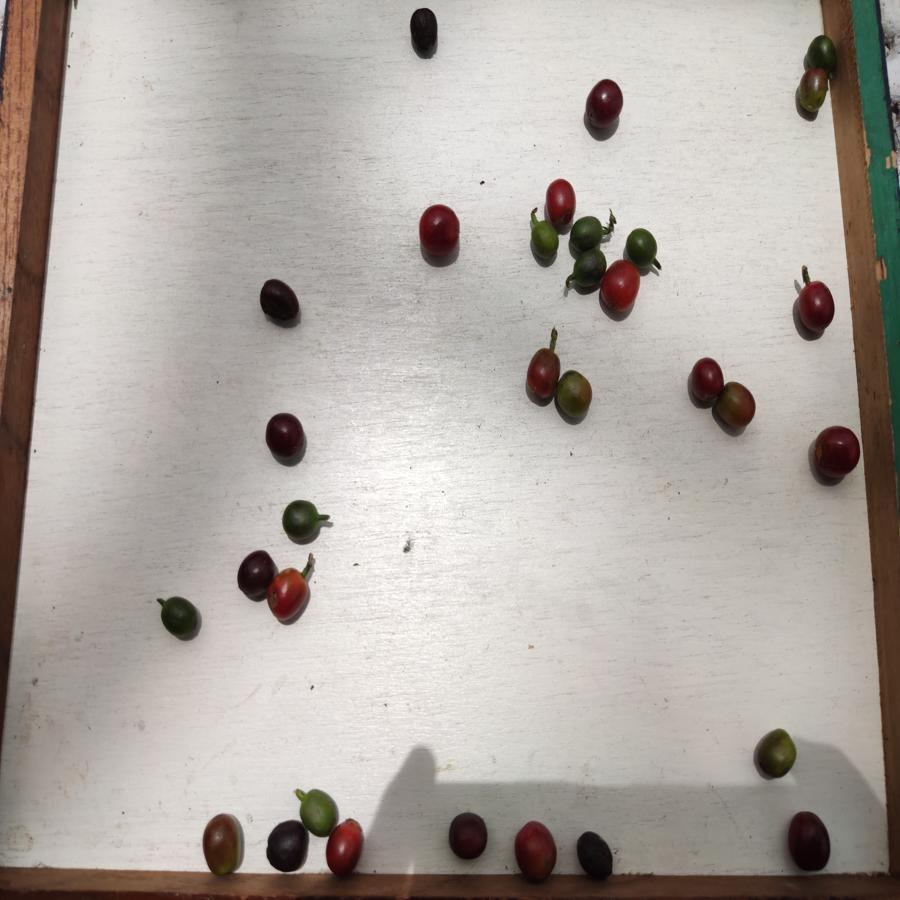Inmaduro: (280, 499, 323, 541), (159, 595, 201, 638), (299, 788, 337, 832), (625, 226, 661, 268), (529, 221, 561, 264), (569, 217, 608, 250), (571, 248, 602, 289), (805, 35, 838, 68)
Maduro: (512, 819, 558, 882), (417, 204, 462, 257), (795, 279, 836, 335), (329, 817, 366, 877), (601, 262, 641, 315), (274, 564, 311, 621), (524, 348, 559, 399), (543, 178, 580, 218)
Pinton: (201, 812, 245, 875), (754, 729, 798, 778), (558, 369, 596, 424), (721, 381, 757, 433), (795, 68, 831, 116)
Sobremaduro: (784, 807, 835, 873), (811, 422, 861, 480), (265, 820, 308, 874), (262, 413, 308, 463), (447, 811, 490, 862), (573, 830, 615, 881), (406, 5, 441, 64), (584, 78, 623, 130), (260, 278, 300, 326), (234, 551, 274, 599), (688, 355, 724, 404)
